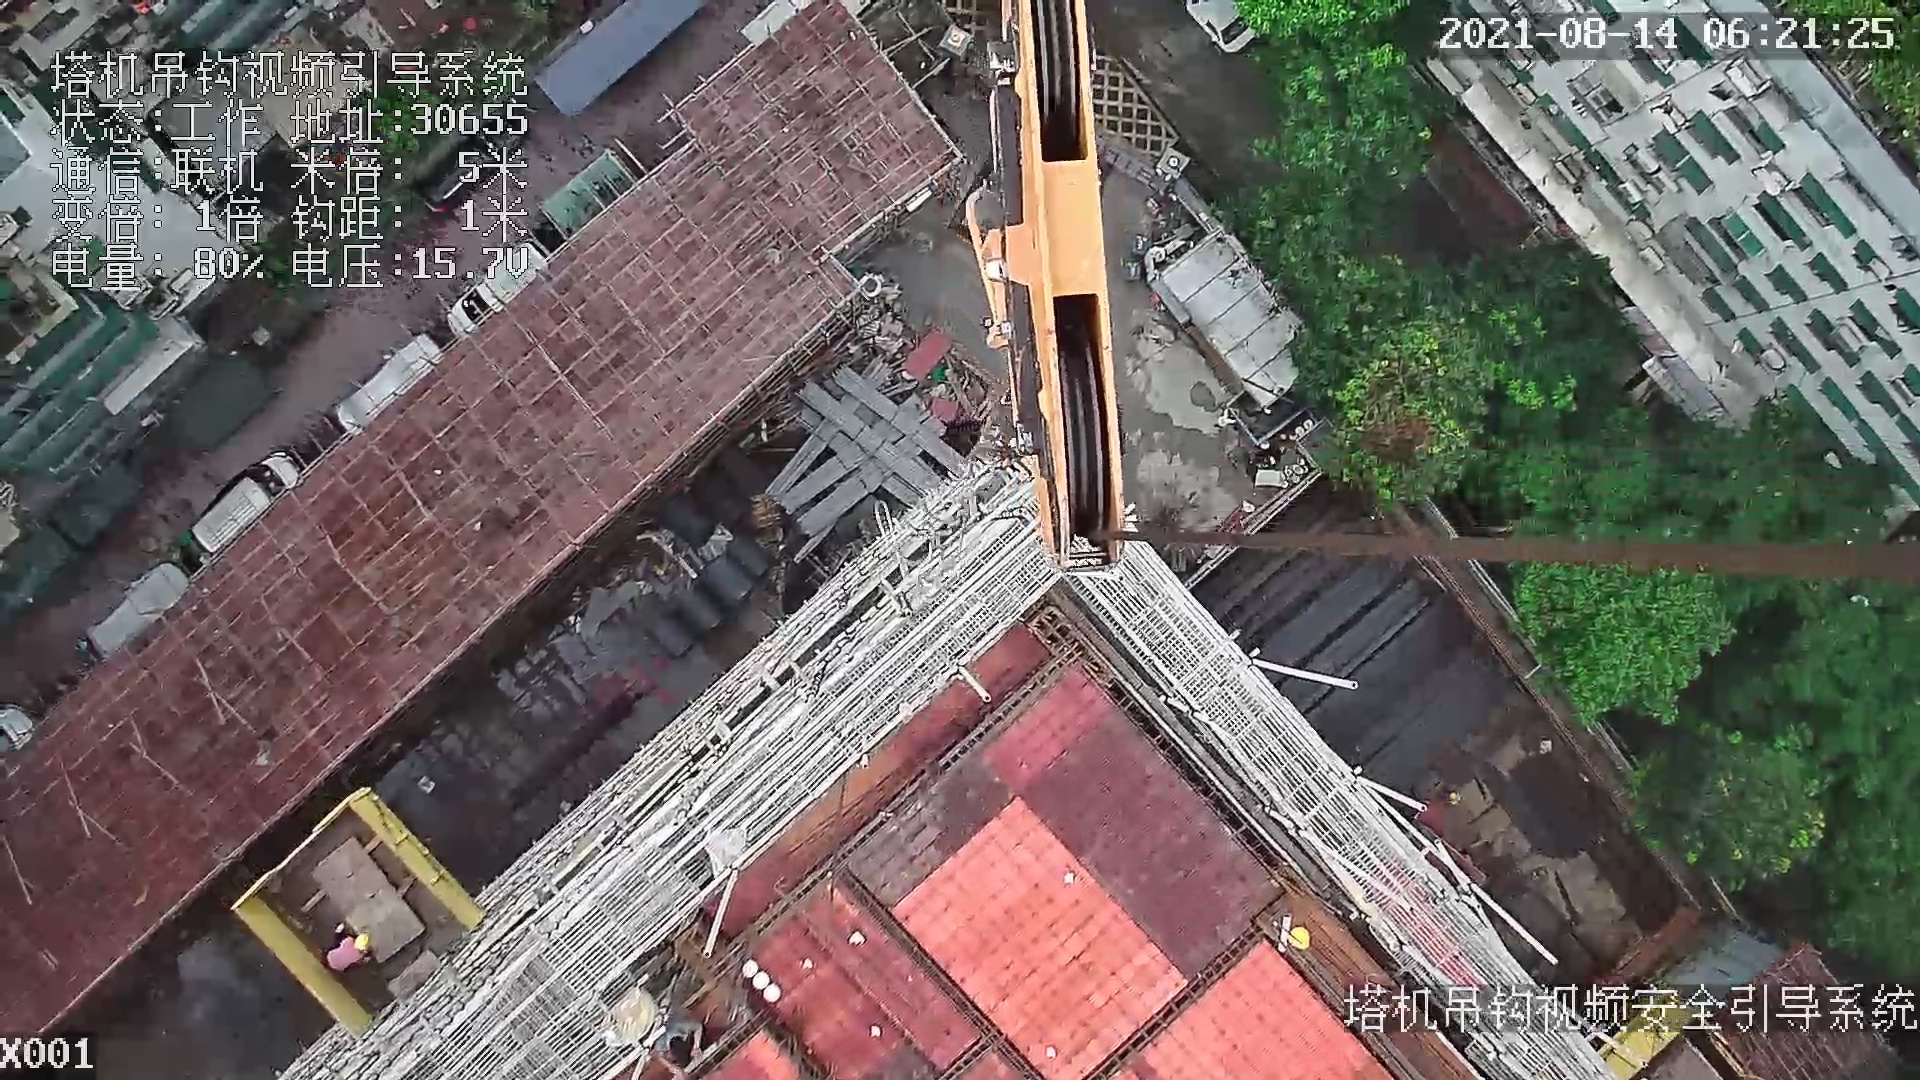helmet: (1287, 925, 1313, 952)
hook: (968, 1, 1132, 568)
person: (312, 927, 385, 971)
rebar: (1224, 491, 1437, 687)
